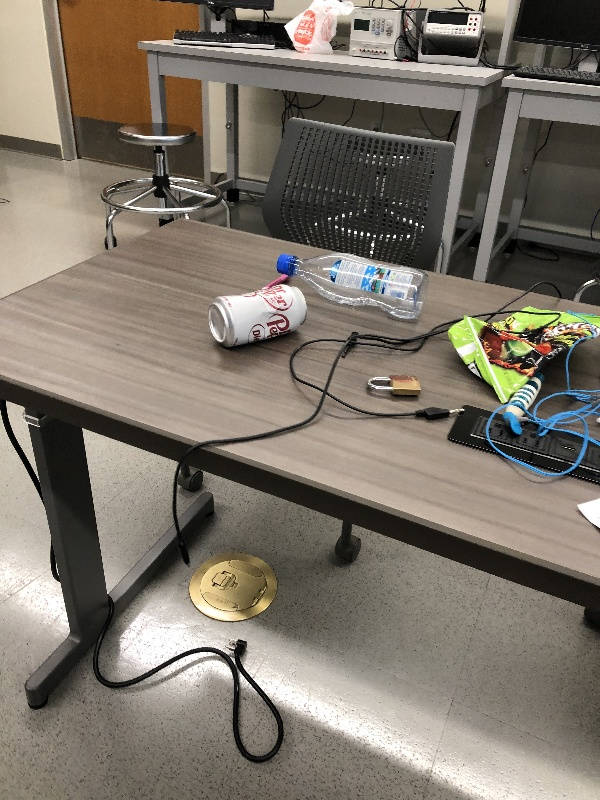bag: (438, 300, 600, 406)
bottle: (269, 252, 428, 325)
can: (205, 280, 312, 349)
